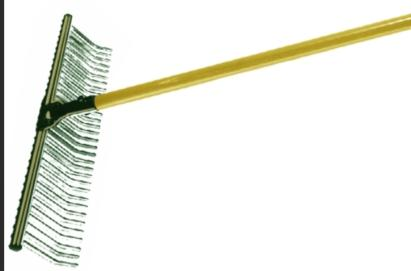RATEAU: (8, 3, 411, 271)
